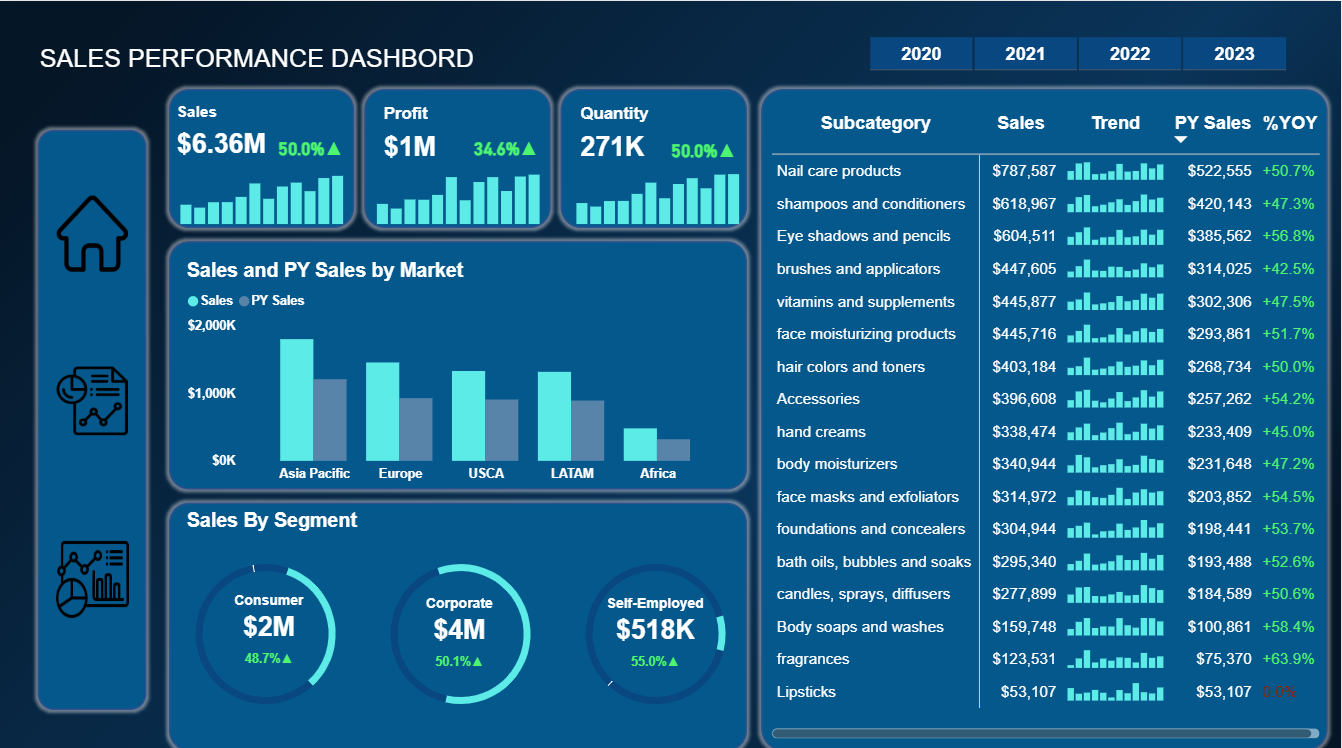

The dashboard page shown, as its layout file describes it:
{"tool":"powerbi","page":{"name":"Page 1","canvas":[1280,720],"ordinal":0},"visuals":[{"type":"cardVisual","fields":{"Data":["Measure Table.Sales"]},"box":[154.3,81.4,140,82.9],"z":0},{"type":"cardVisual","fields":{"Data":["Measure Table.Profit"]},"box":[351.4,81.4,118.6,82.9],"z":1000},{"type":"cardVisual","fields":{"Data":["Measure Table.Quantity"]},"box":[538.6,81.4,111.4,82.9],"z":2000},{"type":"card","fields":{"Values":["Measure Table.%YOY Sales"]},"box":[265.7,120,91.4,42.9],"z":3000},{"type":"card","fields":{"Values":["Measure Table.%YOY Profit"]},"box":[438.6,120,92.9,42.9],"z":4000},{"type":"card","fields":{"Values":["Measure Table.%YOY Quantity"]},"box":[630,121.4,85.7,42.9],"z":5000},{"type":"clusteredColumnChart","fields":{"Category":["Date Table.MonthNumber"],"Y":["Measure Table.Sales"]},"box":[154.3,141.4,221.4,77.1],"z":6000},{"type":"clusteredColumnChart","fields":{"Category":["Date Table.MonthNumber"],"Y":["Measure Table.Profit"]},"box":[341.4,141.4,221.4,77.1],"z":7000},{"type":"clusteredColumnChart","fields":{"Category":["Date Table.MonthNumber"],"Y":["Measure Table.Quantity"]},"box":[531.4,141.4,221.4,77.1],"z":8000},{"type":"slicer","fields":{"Values":["Date Table.Year"]},"box":[805.7,27.1,445.7,42.9],"z":9000},{"type":"clusteredColumnChart","fields":{"Category":["E_Commerce Sales data.Market"],"Y":["Measure Table.Sales","Measure Table.PY Sales"]},"box":[175.7,245.7,524.3,220],"z":10000},{"type":"donutChart","fields":{"Y":["Measure Table.Sales"],"Series":["E_Commerce Sales data.Segment"]},"box":[167.1,498.6,177.1,208.6],"z":11000},{"type":"donutChart","fields":{"Y":["Measure Table.Sales"],"Series":["E_Commerce Sales data.Segment"]},"box":[352.9,498.6,177.1,208.6],"z":12000},{"type":"donutChart","fields":{"Y":["Measure Table.Sales"],"Series":["E_Commerce Sales data.Segment"]},"box":[538.6,498.6,177.1,208.6],"z":13000},{"type":"cardVisual","fields":{"Data":["Measure Table.Sales"]},"box":[201.4,541.4,115.7,115.7],"z":14000},{"type":"cardVisual","fields":{"Data":["Measure Table.Sales"]},"box":[382.9,544.3,115.7,115.7],"z":15000},{"type":"cardVisual","fields":{"Data":["Measure Table.Sales"]},"box":[562.9,544.3,128.6,115.7],"z":16000},{"type":"textbox","box":[175.7,478.6,235.7,40],"z":17000},{"type":"pivotTable","fields":{"Rows":["E_Commerce Sales data.Subcategory"],"Values":["Measure Table.Sales","SparklineData(Measure Table.Sales_[Date Table.Month])","Measure Table.PY Sales","Measure Table.%YOY"]},"box":[732.9,94.3,531.4,612.9],"z":18000},{"type":"textbox","box":[35.7,35.7,524.3,45.7],"z":19000},{"type":"image","box":[51,180,78.6,82.9],"z":20000},{"type":"image","box":[51,342.9,78.6,75.7],"z":21000},{"type":"image","box":[48.1,498.6,84.3,104.3],"z":22000}]}

Visuals, with their boxes in screenshot pixels (x1, y1, x2, y2), scaled from the page's 1280x720 canvas onto the 1342x748 screenshot:
cardVisual - Measure Table.Sales: region(162, 85, 309, 171)
cardVisual - Measure Table.Profit: region(368, 85, 493, 171)
cardVisual - Measure Table.Quantity: region(565, 85, 681, 171)
card - Measure Table.%YOY Sales: region(279, 125, 374, 169)
card - Measure Table.%YOY Profit: region(460, 125, 557, 169)
card - Measure Table.%YOY Quantity: region(661, 126, 750, 171)
clusteredColumnChart - Date Table.MonthNumber x Measure Table.Sales: region(162, 147, 394, 227)
clusteredColumnChart - Date Table.MonthNumber x Measure Table.Profit: region(358, 147, 590, 227)
clusteredColumnChart - Date Table.MonthNumber x Measure Table.Quantity: region(557, 147, 789, 227)
slicer - Date Table.Year: region(845, 28, 1312, 73)
clusteredColumnChart - E_Commerce Sales data.Market x Measure Table.Sales: region(184, 255, 734, 484)
donutChart - Measure Table.Sales x E_Commerce Sales data.Segment: region(175, 518, 361, 735)
donutChart - Measure Table.Sales x E_Commerce Sales data.Segment: region(370, 518, 556, 735)
donutChart - Measure Table.Sales x E_Commerce Sales data.Segment: region(565, 518, 750, 735)
cardVisual - Measure Table.Sales: region(211, 562, 332, 683)
cardVisual - Measure Table.Sales: region(401, 565, 523, 686)
cardVisual - Measure Table.Sales: region(590, 565, 725, 686)
textbox: region(184, 497, 431, 539)
pivotTable - E_Commerce Sales data.Subcategory x Measure Table.Sales: region(768, 98, 1326, 735)
textbox: region(37, 37, 587, 85)
image: region(53, 187, 136, 273)
image: region(53, 356, 136, 435)
image: region(50, 518, 139, 626)
